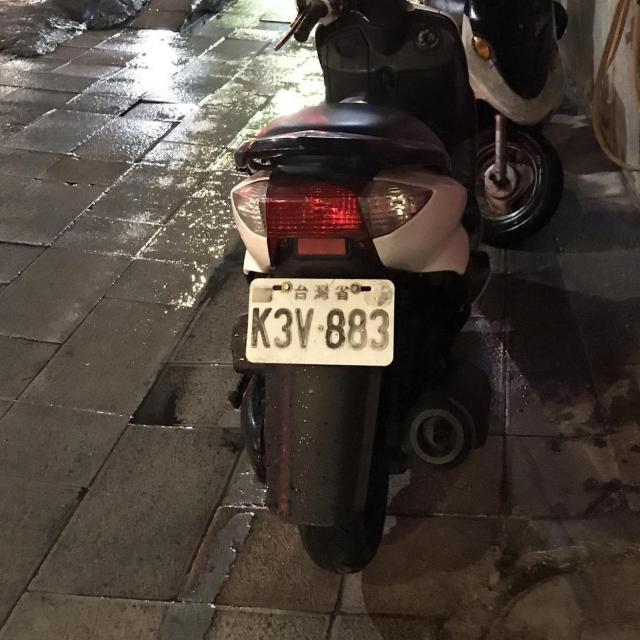W: (242, 273, 396, 369)
